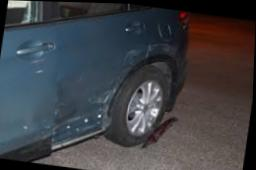Door: (53, 28, 149, 145)
